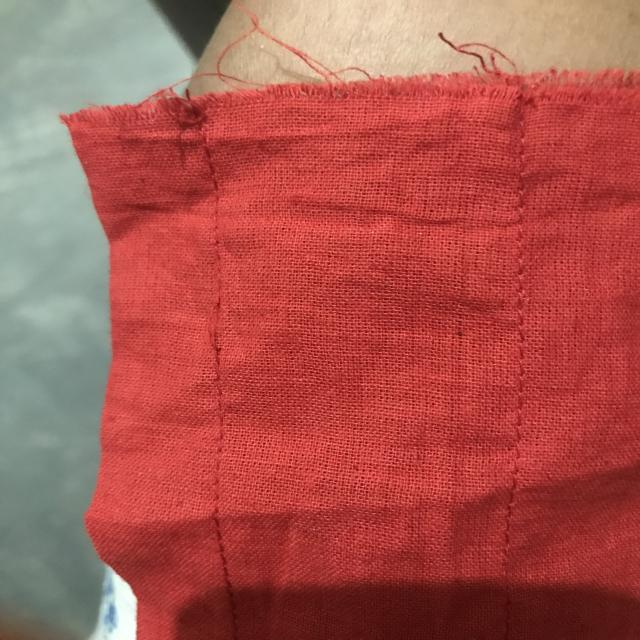good: (510, 263, 536, 380)
skip: (192, 294, 249, 358)
